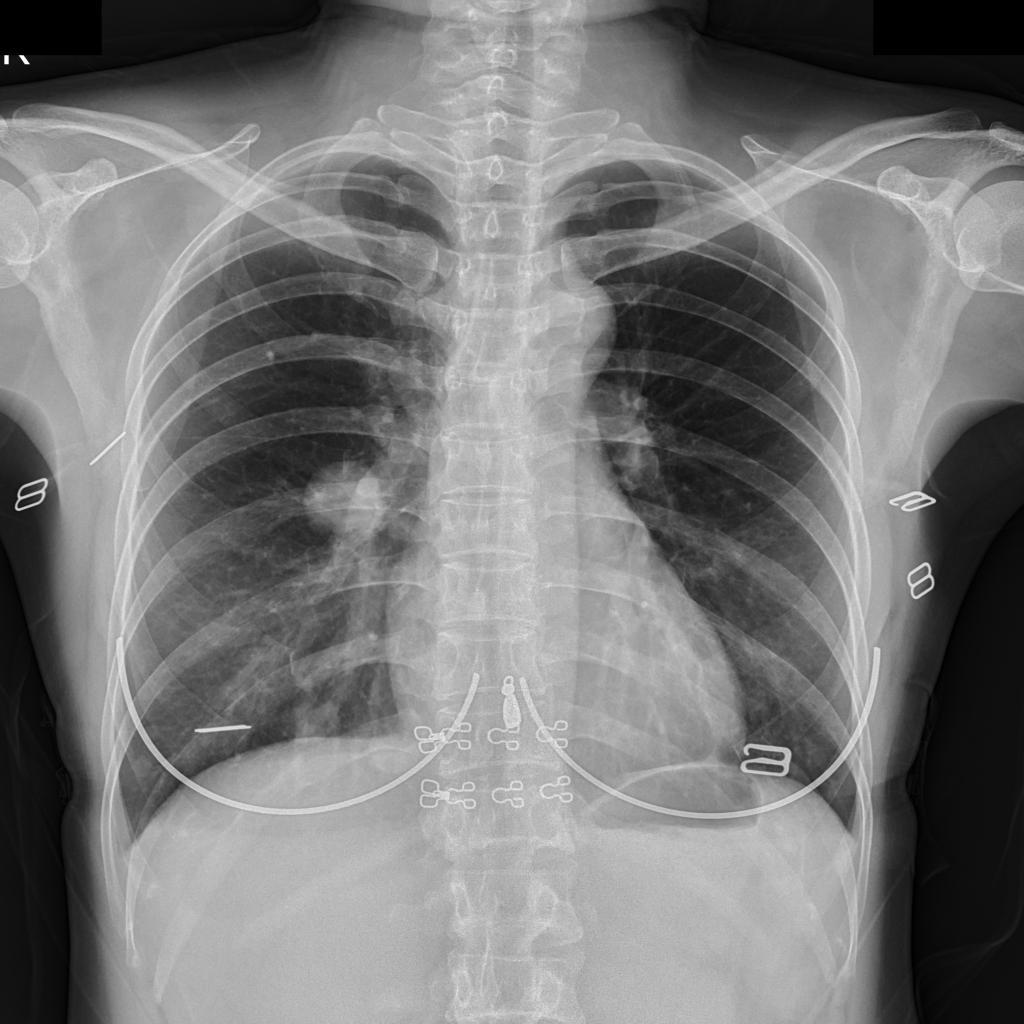Nodule: (306, 461, 386, 541), (267, 351, 277, 362)
